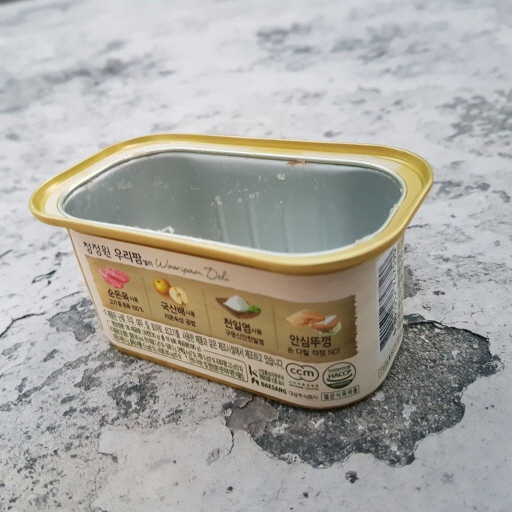Metal_2: (28, 131, 435, 412)
